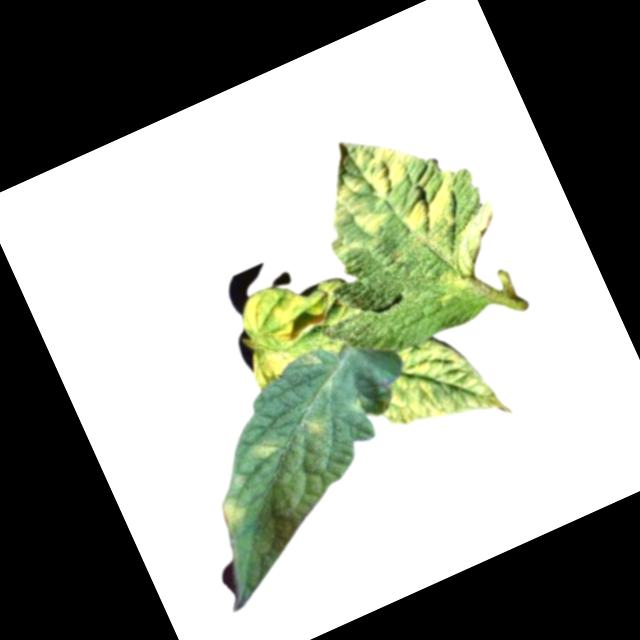Leaf_Mold: (290, 95, 515, 325), (360, 319, 511, 462), (231, 265, 338, 357), (241, 340, 298, 394), (212, 490, 256, 533), (241, 428, 287, 468), (296, 409, 331, 443)
